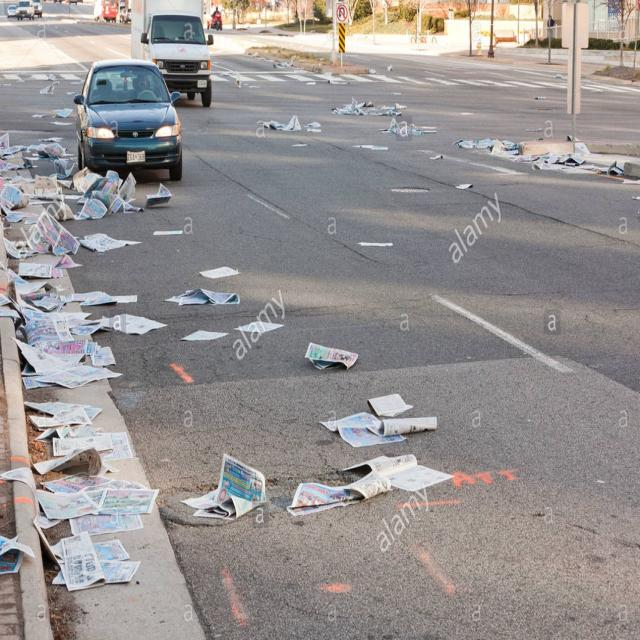garbage: (0, 122, 628, 604)
